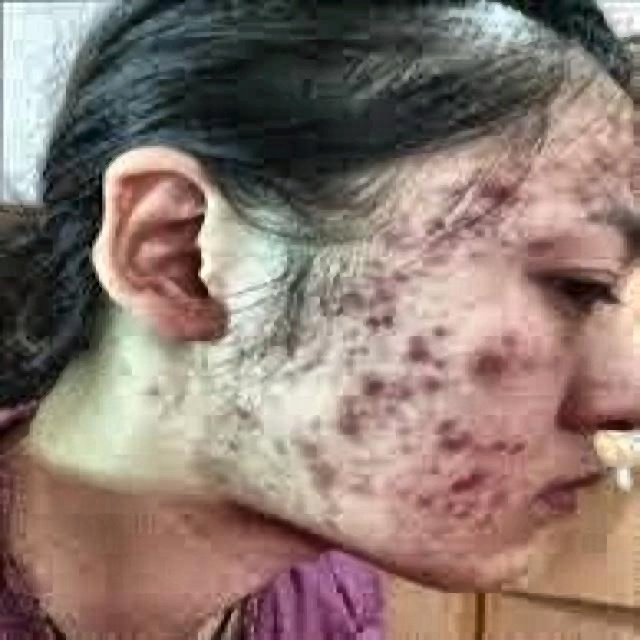papule: (452, 210, 511, 252), (515, 222, 554, 262), (465, 420, 505, 457), (436, 494, 475, 531), (307, 459, 346, 492), (409, 361, 442, 395), (363, 304, 399, 334), (475, 354, 515, 381), (482, 479, 511, 514), (478, 180, 518, 205), (419, 482, 445, 519), (419, 208, 449, 240), (478, 328, 522, 348), (350, 371, 386, 395), (297, 437, 330, 462), (498, 435, 535, 457), (323, 396, 360, 416), (333, 408, 360, 435), (439, 433, 468, 457), (376, 224, 409, 244), (323, 289, 353, 311), (396, 329, 425, 351), (419, 418, 462, 432), (379, 386, 409, 406), (392, 472, 412, 502), (383, 262, 412, 282), (449, 467, 475, 489), (360, 284, 389, 302), (412, 460, 439, 477), (360, 252, 382, 272), (432, 318, 452, 338), (422, 353, 442, 366)
